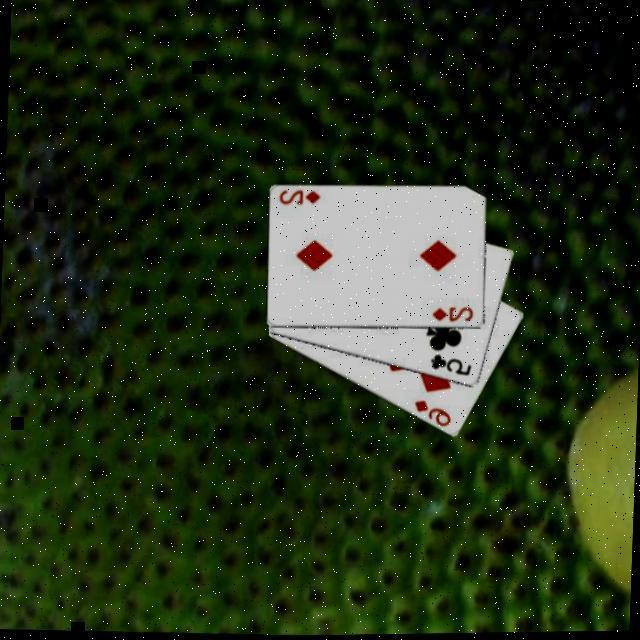2D: (427, 302, 475, 326), (274, 184, 322, 208)
5C: (426, 349, 474, 378)
9D: (409, 395, 454, 429)
